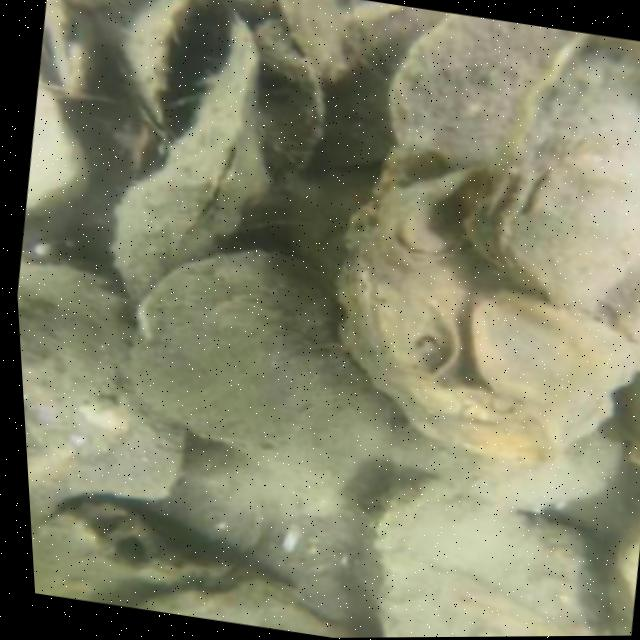Oyster-Indeterminate: (337, 149, 640, 463), (139, 247, 390, 510), (103, 10, 273, 311), (17, 259, 187, 535), (476, 42, 640, 307), (357, 484, 635, 637), (141, 444, 370, 625), (397, 14, 575, 169), (127, 581, 352, 638)
